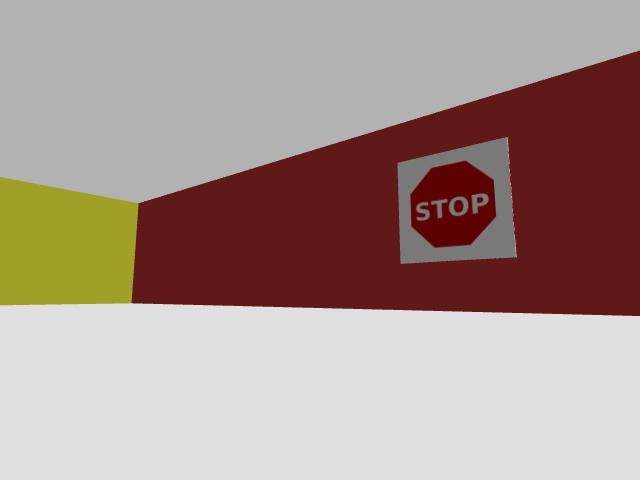stopsign: (398, 137, 516, 263)
